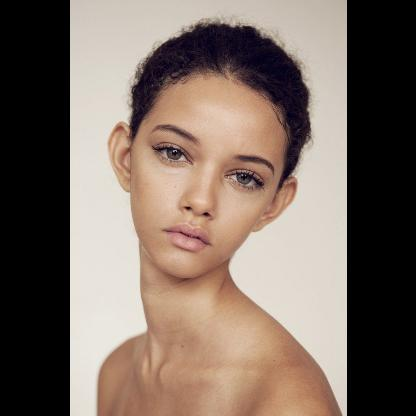Female: (107, 69, 298, 278)
